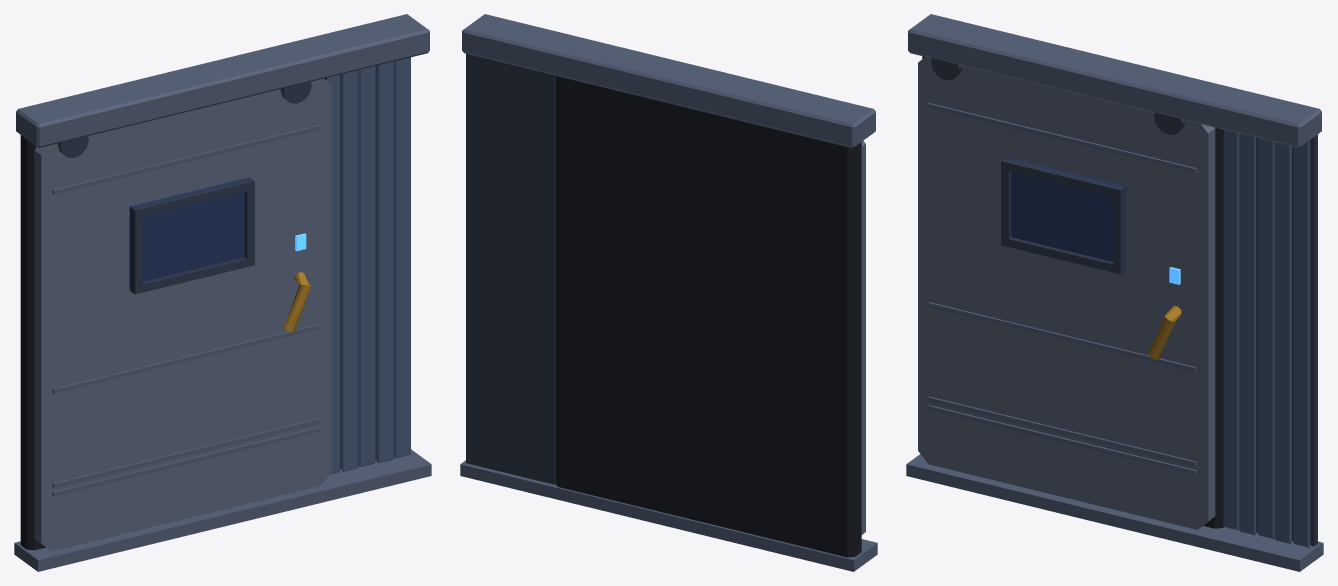
The model's file is bw_targ_cold_door.glb.
3 renders of one model, left to right at view 1: azimuth 30°, elevation 25°; view 2: azimuth 150°, elevation 25°; view 3: azimuth 330°, elevation 25°, orthographic.
Parts seen in each view (by area): view 1: indicator.006, indicator.002, indicator.004, indicator.007, indicator.003, indicator.005, indicator; view 2: indicator.005, indicator.003, indicator.002, indicator.006; view 3: indicator.006, indicator.004, indicator.002, indicator.003, indicator.007, indicator.005, indicator.
Boxes of the visible parts, x1,y1,x2,y2 form: indicator.006: (34,78,331,551); indicator.002: (14,14,431,571); indicator.004: (327,57,410,474); indicator.007: (129,177,250,291); indicator.003: (57,65,376,468); indicator.005: (20,78,326,550); indicator: (283,272,311,332); indicator.005: (555,75,861,557); indicator.003: (466,53,555,484); indicator.002: (460,14,877,571); indicator.006: (861,140,865,534); indicator.006: (918,57,1215,529); indicator.004: (1223,130,1310,547); indicator.002: (906,14,1323,571); indicator.003: (931,58,1317,546); indicator.007: (1004,157,1126,271); indicator.005: (922,56,1223,528); indicator: (1148,305,1181,359).
Bounding box in the file's own units: 2.4 × 2.6 × 0.3.
